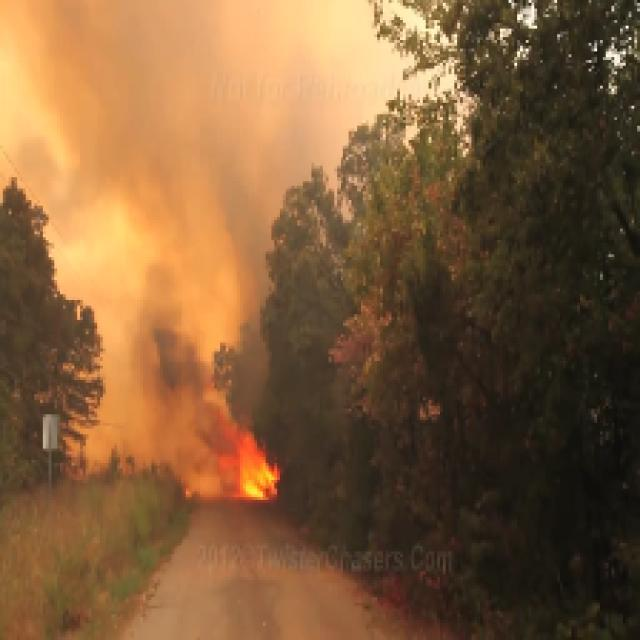Fire: (177, 394, 300, 502)
Smoke: (66, 34, 272, 286)
